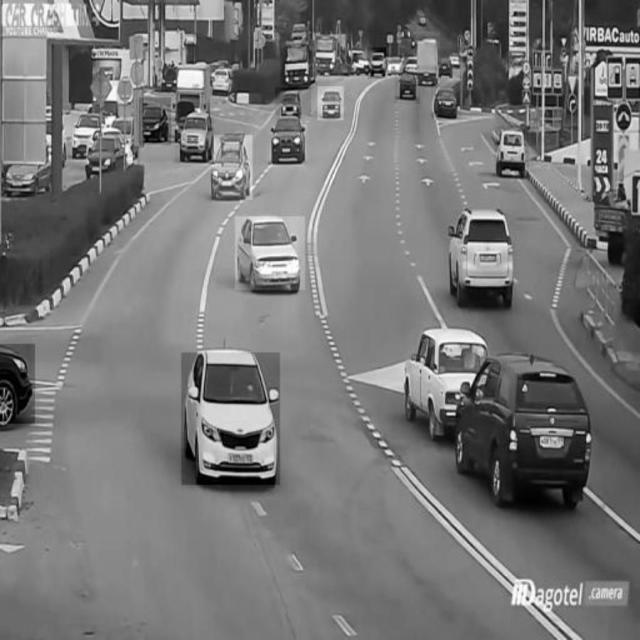vehicle: (460, 355, 591, 509), (182, 353, 280, 485), (407, 329, 483, 437), (450, 211, 517, 301), (235, 217, 305, 290), (1, 344, 36, 424), (212, 136, 253, 200), (267, 114, 309, 170), (175, 103, 213, 164), (279, 28, 315, 85), (85, 129, 123, 174), (495, 126, 529, 171), (139, 98, 171, 145), (414, 32, 440, 84), (313, 34, 345, 76), (432, 83, 462, 120), (275, 87, 311, 117), (318, 86, 344, 120), (395, 70, 420, 104), (368, 48, 386, 78)
